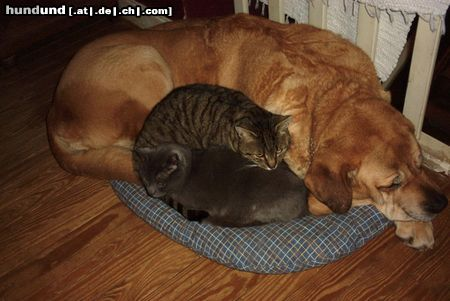mastin_espanol: (47, 14, 450, 251)
